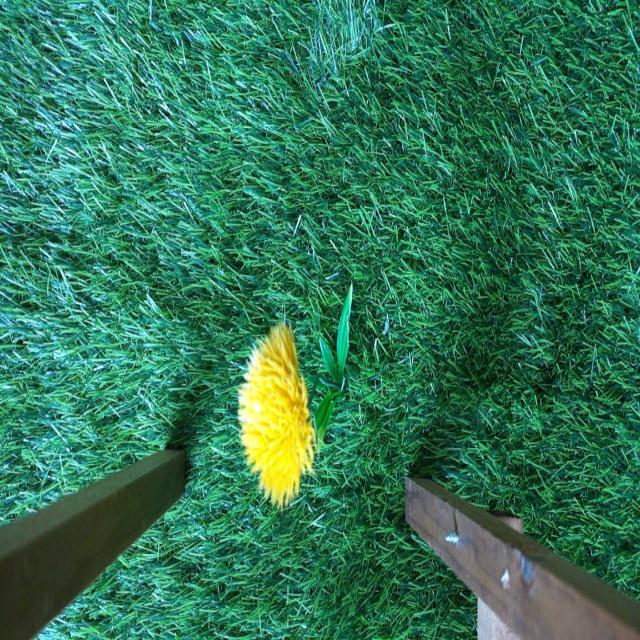base: (313, 287, 356, 450)
flower: (240, 324, 315, 503)
